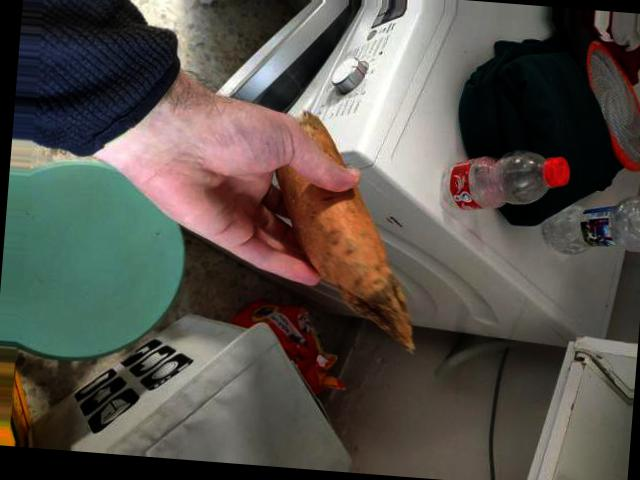sweet_potato: (274, 148, 394, 293)
